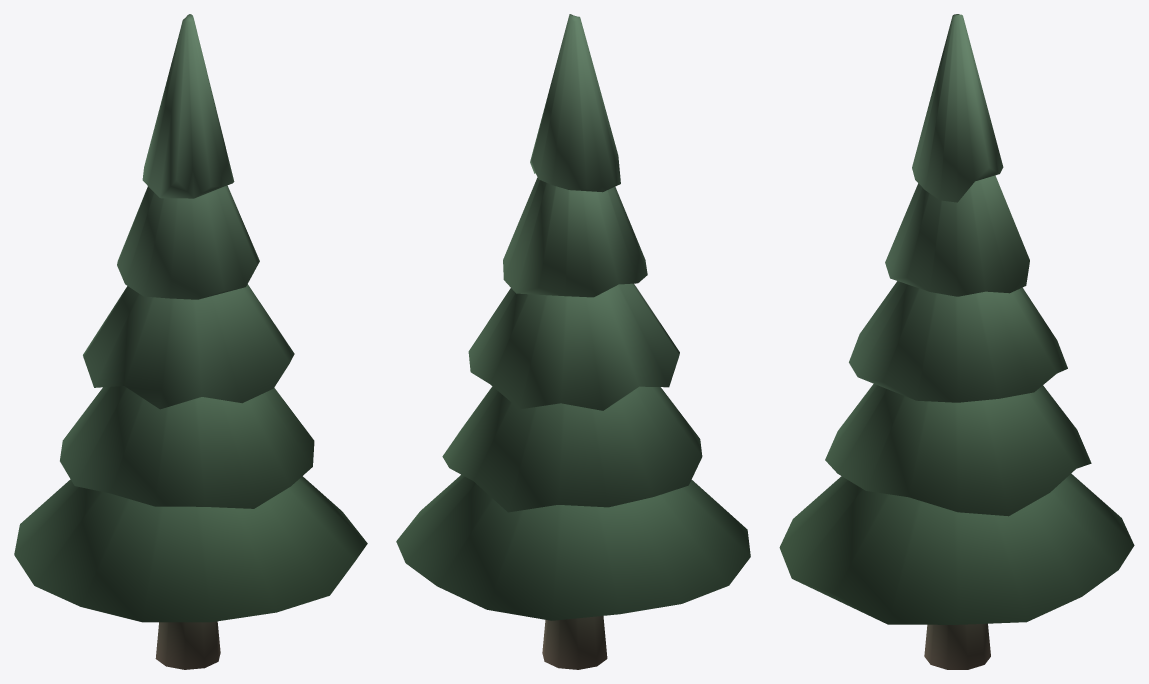
The model's file is pine_a.glb.
3 views of the same model, side by side, from view 1: azimuth 30°, elevation 25°; view 2: azimuth 150°, elevation 25°; view 3: azimuth 270°, elevation 25° (orthographic).
Parts seen in each view (by area): view 1: pine_a; view 2: pine_a; view 3: pine_a.
Boxes of the visible parts, left/top/right/bottom form: pine_a: left=14, top=14, right=367, bottom=669; pine_a: left=396, top=14, right=750, bottom=669; pine_a: left=779, top=14, right=1134, bottom=669.
Bounding box in the file's own units: 1.61 × 3.19 × 1.6.
